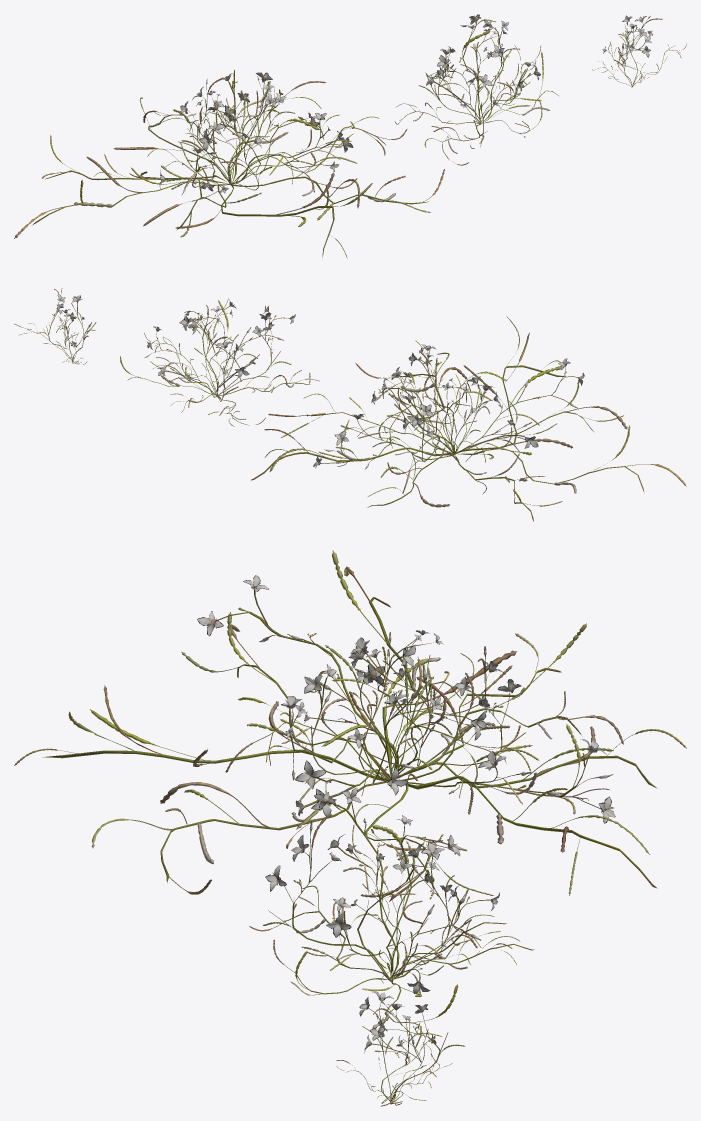
Rendered from flower_heliophila.glb.
3 views of the same model, one above another, from view 1: azimuth 30°, elevation 25°; view 2: azimuth 150°, elevation 25°; view 3: azimuth 270°, elevation 25° (orthographic). The views are drawn at different scales.
Visible parts, largest first — view 1: flower_heliophila_large, flower_heliophila_medium, flower_heliophila_small; view 2: flower_heliophila_large, flower_heliophila_medium, flower_heliophila_small; view 3: flower_heliophila_large, flower_heliophila_medium, flower_heliophila_small.
Boxes of the visible parts, box(x1,y1,x2,y2) form: flower_heliophila_large: box(14, 70, 445, 258); flower_heliophila_medium: box(394, 14, 558, 165); flower_heliophila_small: box(592, 15, 686, 87); flower_heliophila_large: box(251, 316, 686, 521); flower_heliophila_medium: box(120, 298, 319, 426); flower_heliophila_small: box(14, 288, 96, 364); flower_heliophila_large: box(14, 550, 686, 923); flower_heliophila_medium: box(249, 787, 534, 1047); flower_heliophila_small: box(336, 991, 465, 1106).
Bounding box in the file's own units: 2.75 × 0.3993 × 1.42.
Materials: 1 (1 with a texture image).
